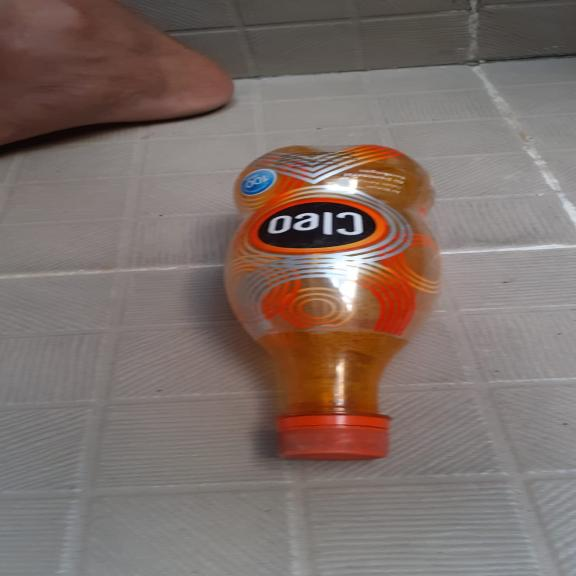Plastik: (219, 142, 454, 468)
